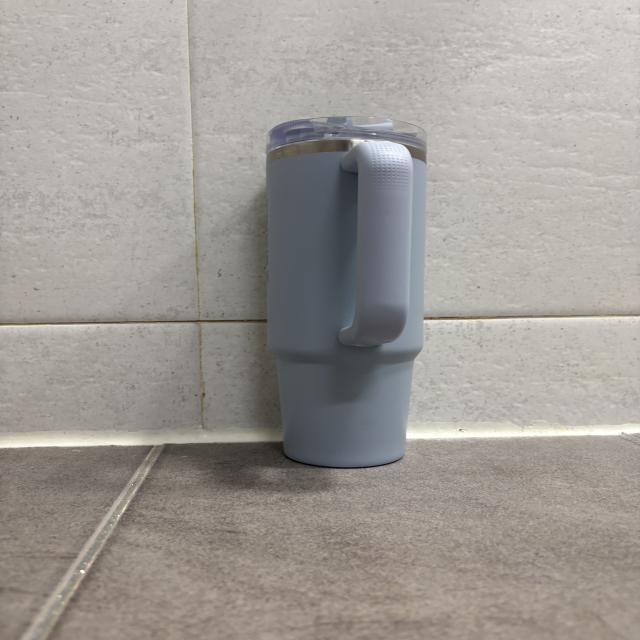waterbottle: (265, 115, 427, 469)
